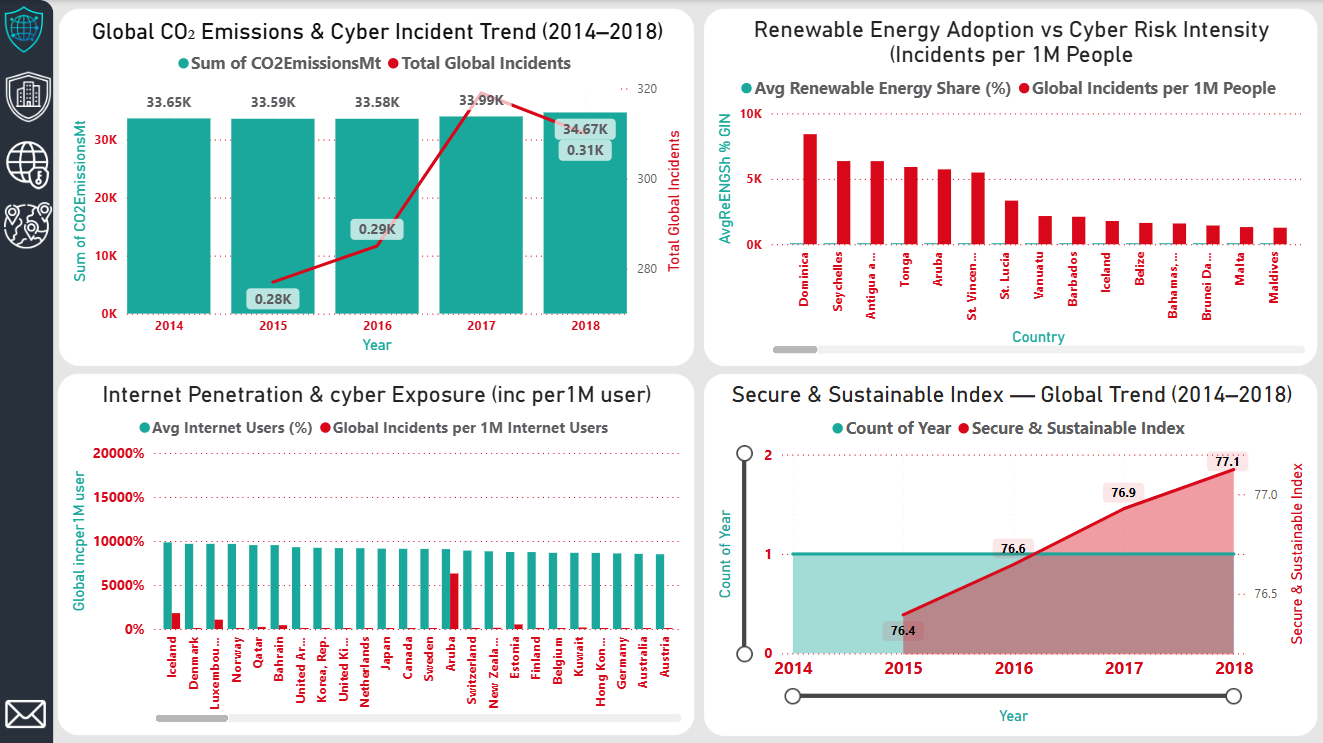

The dashboard page shown, as its layout file describes it:
{"tool":"powerbi","page":{"name":"Global Risk Dynamics","canvas":[1280,720],"ordinal":2},"visuals":[{"type":"shape","box":[0,0,52.6,720.2],"z":0},{"type":"lineClusteredColumnComboChart","title":"Global CO₂ Emissions & Cyber Incident Trend (2014–2018)","fields":{"Category":["Dim_Year.Year"],"Y":["Sum(WorldSustainabilityDataset.CO2EmissionsMt)"],"Y2":["Measures – GlobalThreats.Total Global Incidents"]},"box":[57.9,8.4,612.9,345],"z":1000},{"type":"lineClusteredColumnComboChart","title":"Renewable Energy Adoption vs Cyber Risk Intensity (Incidents per 1M People","fields":{"Category":["WorldSustainabilityDataset.Country"],"Y":["Measures – Sustainability.Avg Renewable Energy Share (%)","Measures – Combined.Global Incidents per 1M People"]},"box":[680.2,8.9,592.2,345.1],"z":2000},{"type":"image","title":"CorporateCyber","box":[0,67.6,56.7,51.9],"z":3000},{"type":"clusteredColumnChart","title":"Internet Penetration & cyber Exposure (inc per1M user)","fields":{"Category":["WorldSustainabilityDataset.Country"],"Y":["Measures – Sustainability.Avg Internet Users (%)","select","Measures – Combined.Global Incidents per 1M Internet Users"]},"box":[56.7,360.7,614.1,348.7],"z":4000},{"type":"image","title":"globalthreat","box":[0,135.9,54.9,46.3],"z":5000},{"type":"lineChart","title":"Secure & Sustainable Index — Global Trend (2014–2018)","fields":{"Category":["Dim_Year.Year"],"Y":["CountNonNull(Dim_Year.Year)"],"Y2":["Measures – Combined.Secure & Sustainable Index"]},"box":[680.4,360.7,592.4,349.9],"z":6000},{"type":"image","title":"Logo","box":[2.8,5.6,43.1,44.5],"z":7000},{"type":"image","title":"globalmaps","box":[4.3,193.8,46.3,46.3],"z":8000},{"type":"image","title":"mail","box":[5.8,668.1,39,41.9],"z":9000}]}

Visuals, with their boxes on the page's 1280x720 design canvas (x1, y1, x2, y2). These are canvas units, not pixel positions in the 1323x743 screenshot, which may show the page scaled, cropped or inside an application window:
shape: crop(0, 0, 53, 720)
"Global CO₂ Emissions & Cyber Incident Trend (2014–2018)" lineClusteredColumnComboChart: crop(58, 8, 671, 353)
"Renewable Energy Adoption vs Cyber Risk Intensity (Incidents per 1M People" lineClusteredColumnComboChart: crop(680, 9, 1272, 354)
"CorporateCyber" image: crop(0, 68, 57, 120)
"Internet Penetration & cyber Exposure (inc per1M user)" clusteredColumnChart: crop(57, 361, 671, 709)
"globalthreat" image: crop(0, 136, 55, 182)
"Secure & Sustainable Index — Global Trend (2014–2018)" lineChart: crop(680, 361, 1273, 711)
"Logo" image: crop(3, 6, 46, 50)
"globalmaps" image: crop(4, 194, 51, 240)
"mail" image: crop(6, 668, 45, 710)
